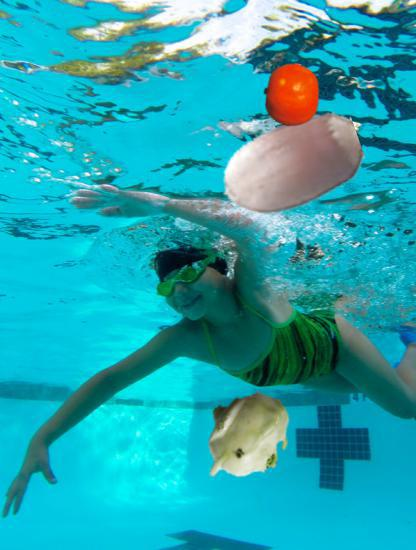Clementine: (260, 63, 324, 127)
Hazelnut: (218, 94, 364, 240)
Kohlrabi: (192, 385, 298, 491)
